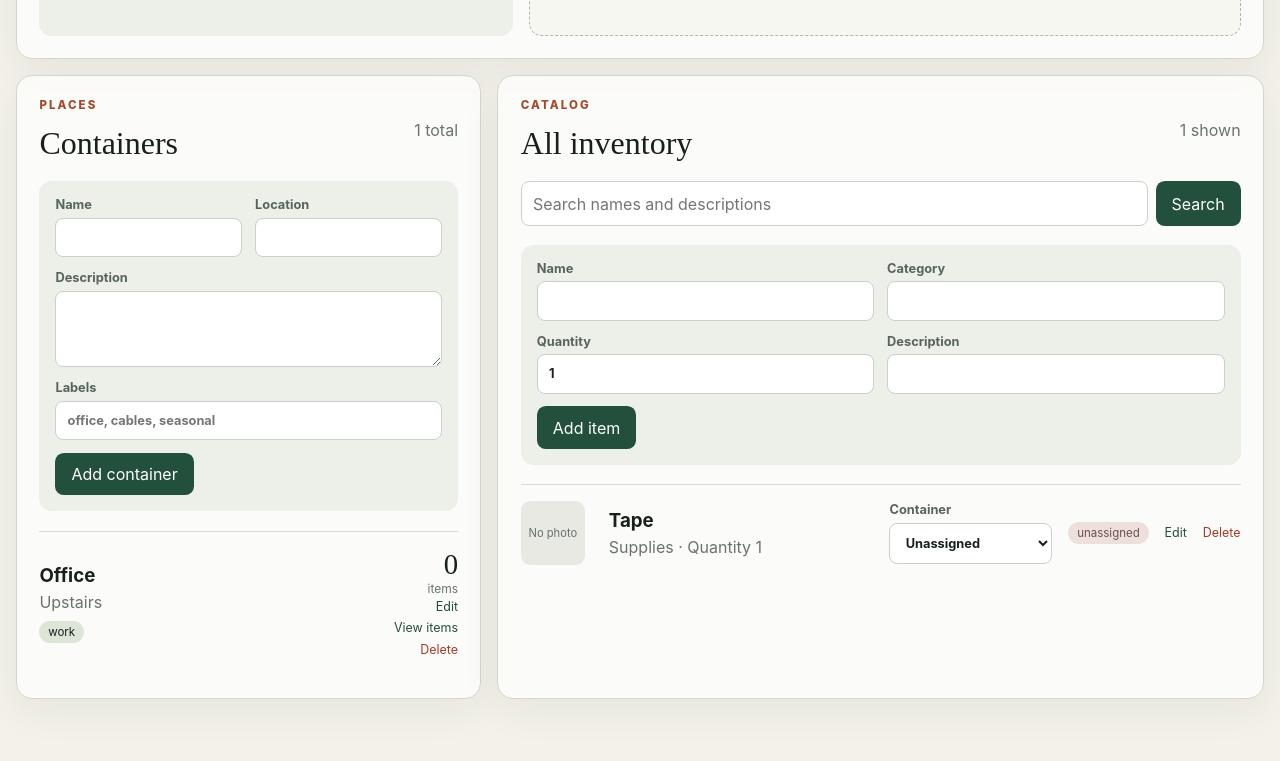
it: edits an inventory item
(page scrolled)
Expected: the text "Tape" is shown, [609,509,654,532]
Click the button "Edit" in the row of "· Quantity": (1176, 533) [1165,522,1187,544]
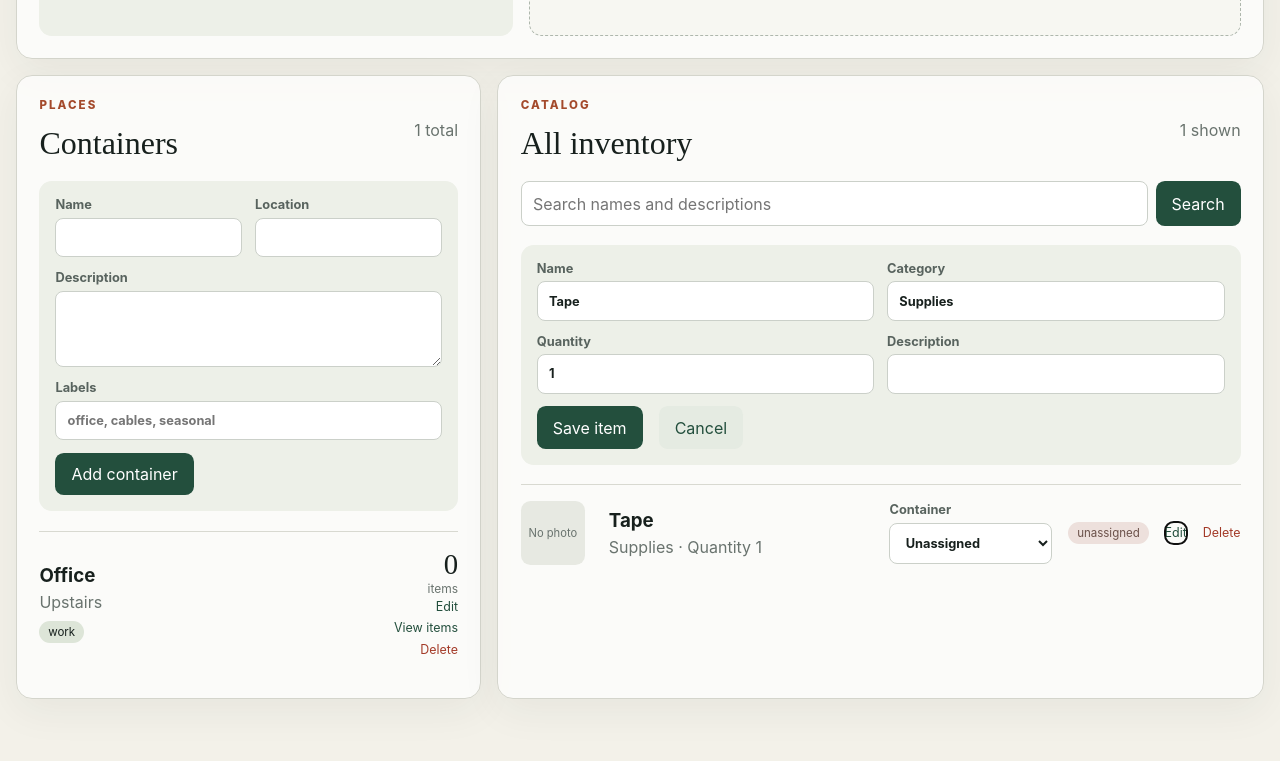
Replace the text in the field labelled "Name" below "Category" with "Packing tape": (706, 301) [537,282,874,321]
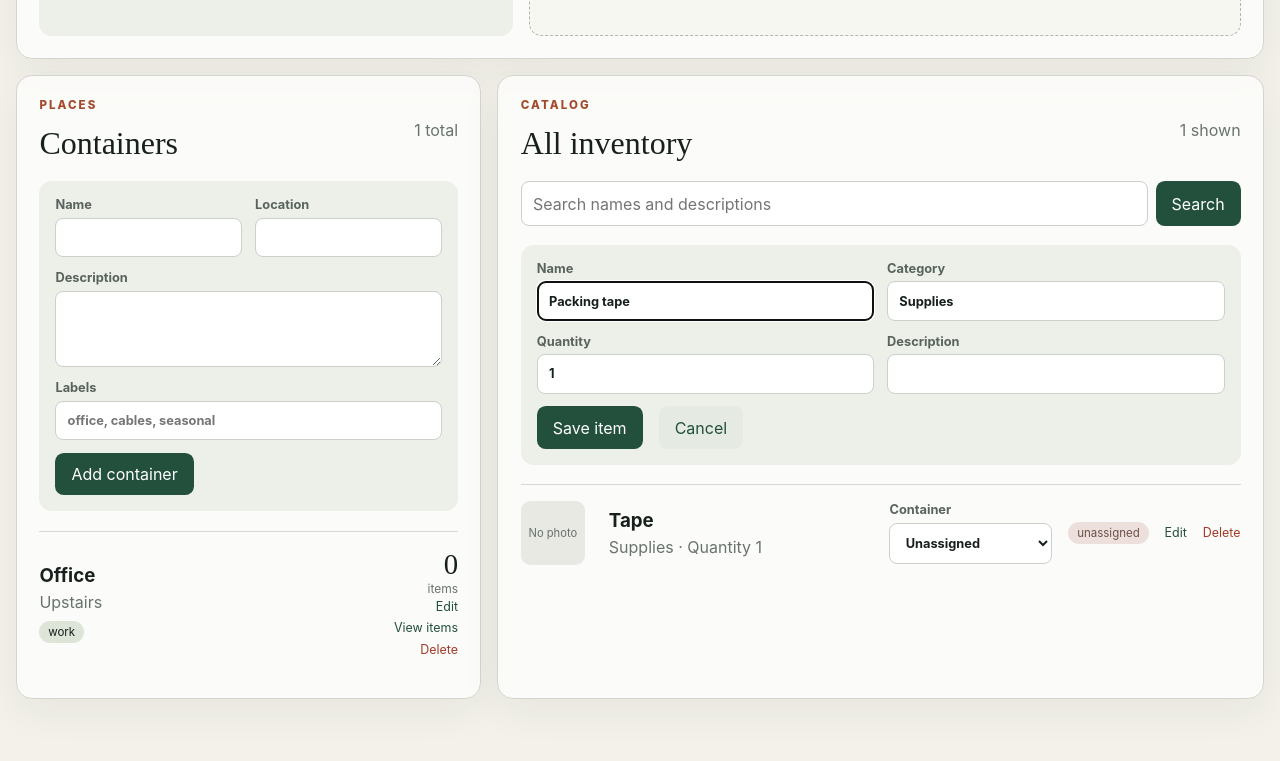
Click the button "Save item": (590, 428) [537,406,643,449]
(page scrolled)
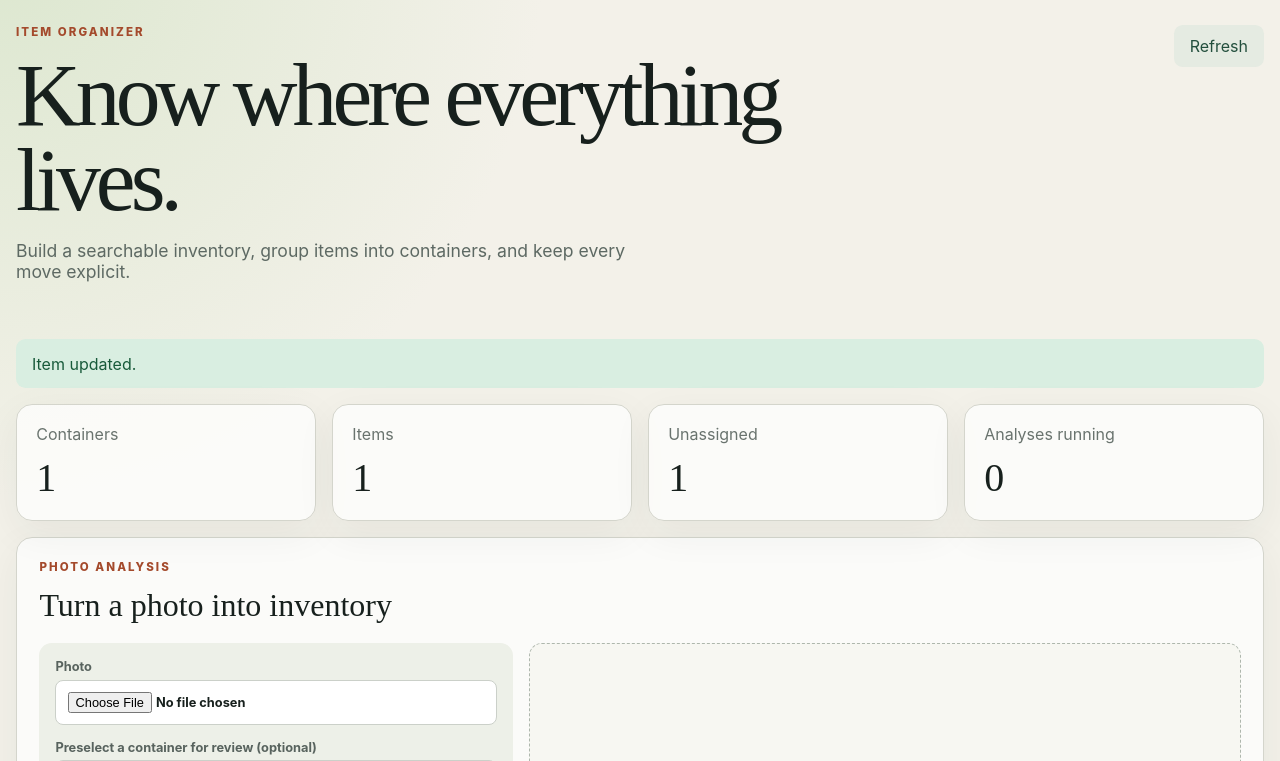
Expected: the message reads "Item updated.", [32,354,136,374]
